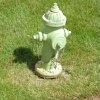a fire hydrant: (33, 6, 71, 80)
